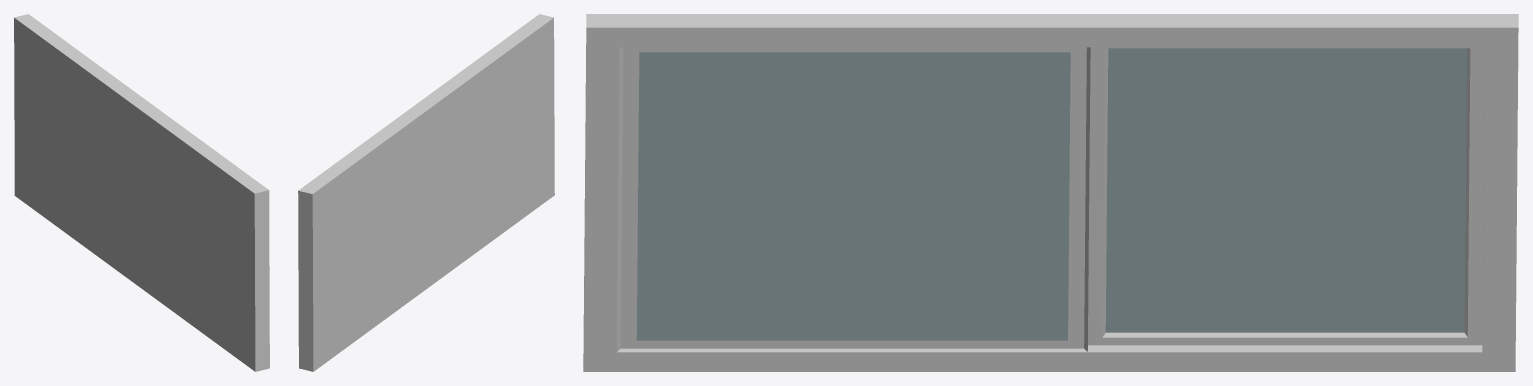
The model's file is Janela.fbx.
3 renders of one model, left to right at view 1: azimuth 30°, elevation 25°; view 2: azimuth 150°, elevation 25°; view 3: azimuth 270°, elevation 25°, orthographic. The views are drawn at different scales.
Parts seen in each view (by area): view 1: Cube.003; view 2: Cube.003; view 3: Cube.003.
Part boxes in pixels (bbox=[...]): Cube.003: bbox=[14, 14, 269, 371]; Cube.003: bbox=[298, 14, 554, 371]; Cube.003: bbox=[583, 14, 1518, 371].
Size of the model in its own units: 61.43 by 720 by 1773.
